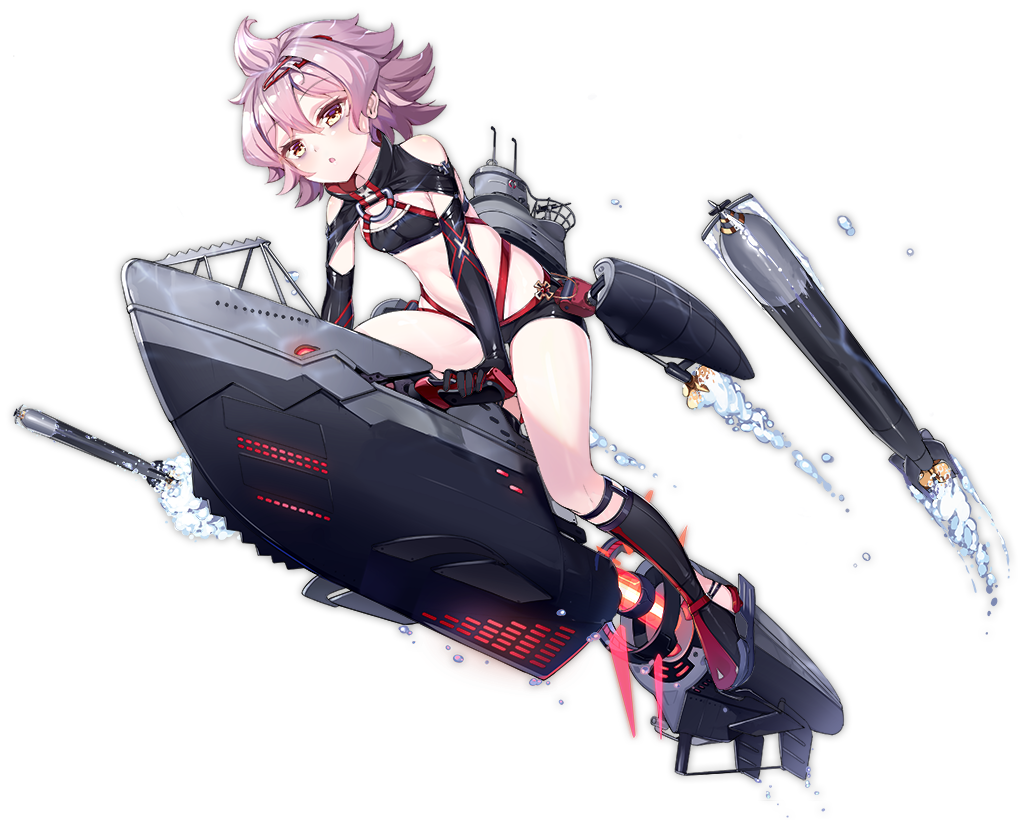person: (79, 1, 726, 647)
